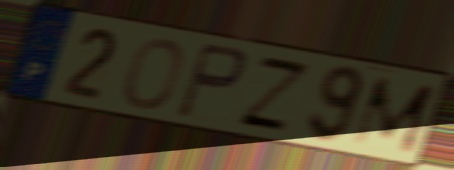2: (59, 26, 120, 104)
9: (303, 63, 366, 148)
M: (348, 75, 440, 157)
O: (121, 35, 186, 111)
P: (172, 40, 250, 122)
Z: (233, 52, 315, 136)
